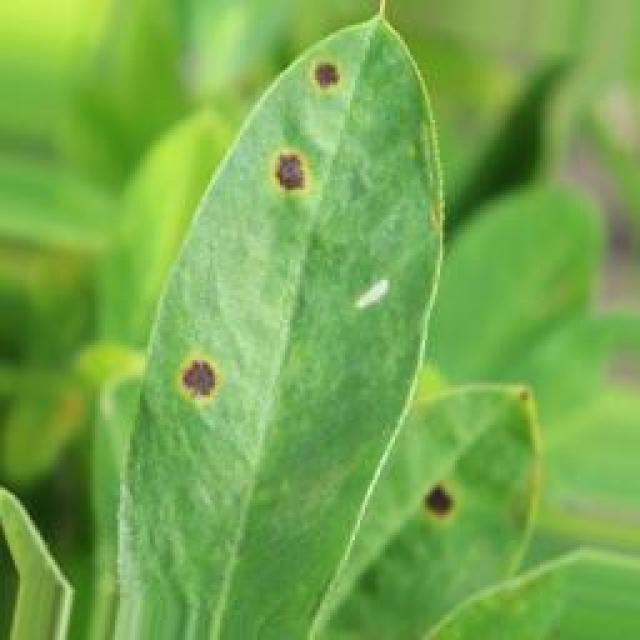Early_leaf_spot: (163, 346, 256, 414), (395, 485, 470, 548), (266, 132, 322, 207), (304, 46, 350, 106)
